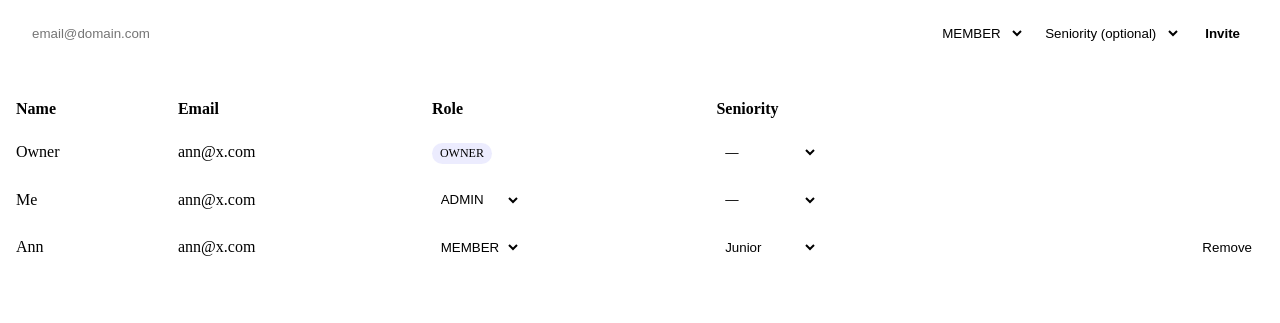
Test: MembersPanel › invites a member who already has an account
Step 1. Type "new@x.com" into the field with placeholder "email@domain.com" → (473, 34), box [24, 18, 922, 49]
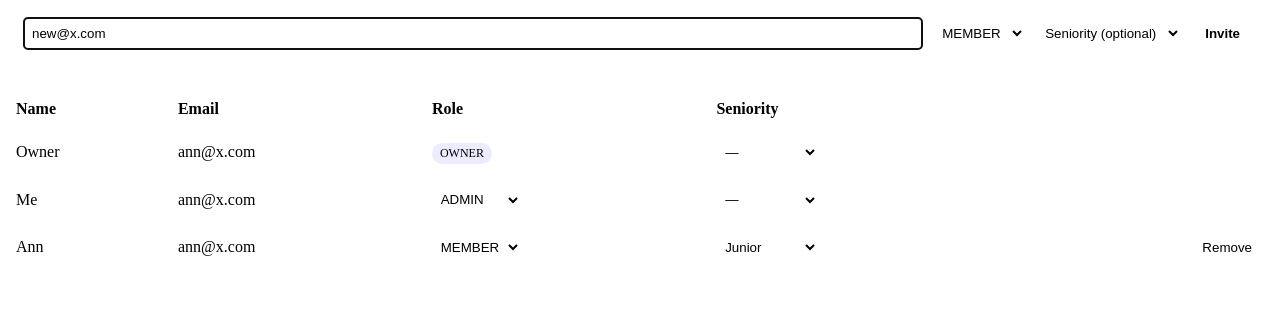
Step 2. Select "VIEWER" in the 1st dropdown → (978, 34), box [930, 17, 1025, 50]
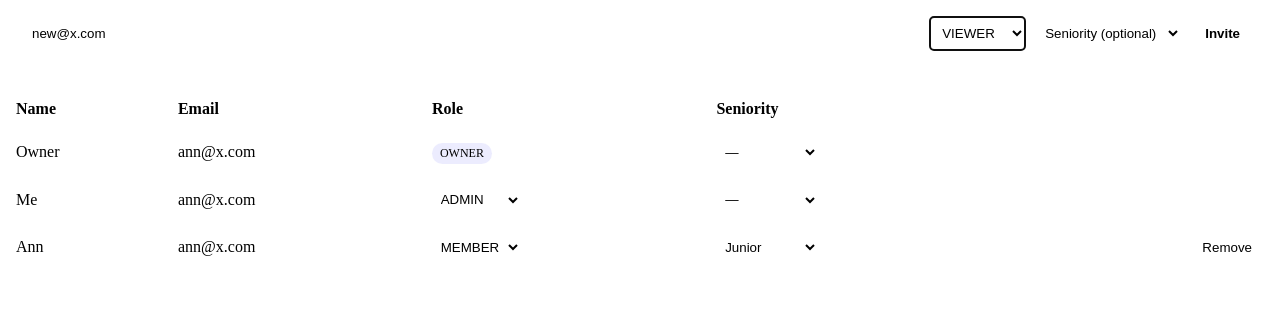
Step 3. Click the button "Invite" → click(1223, 34), box [1189, 18, 1256, 49]
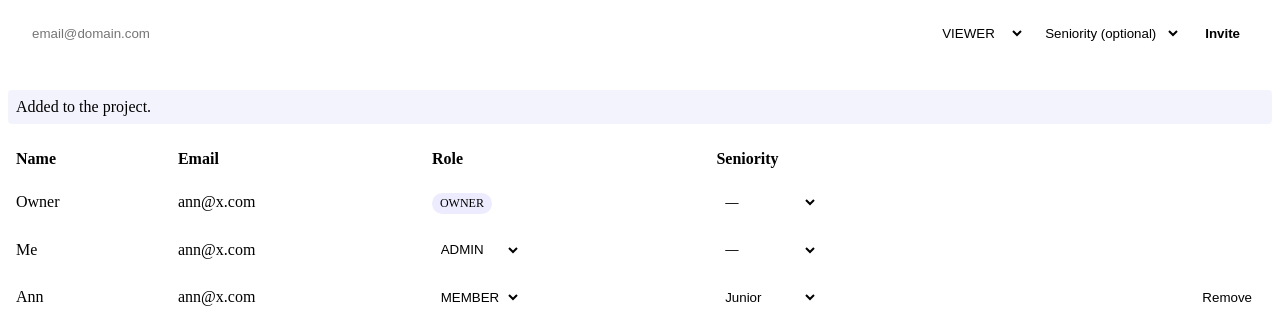
Now the text "Added to the project." is shown, box [8, 90, 1272, 124]
